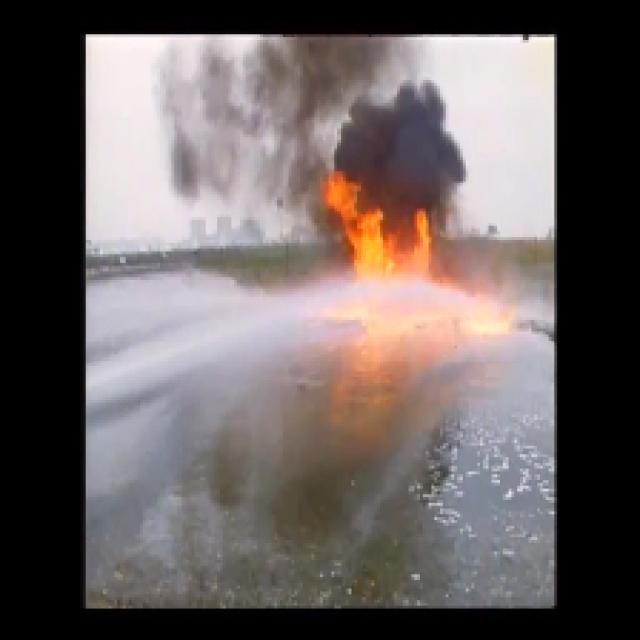fire: (332, 186, 383, 276)
smoke: (354, 108, 454, 188)
